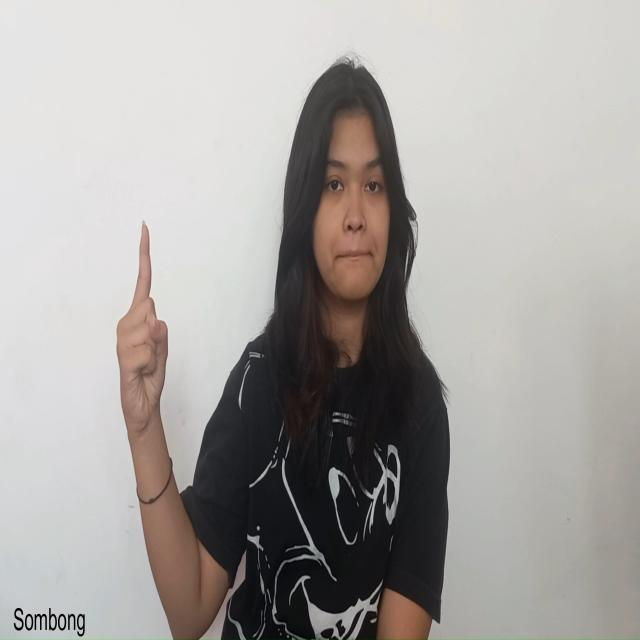Sombong -BISINDO-: (114, 218, 171, 443)
